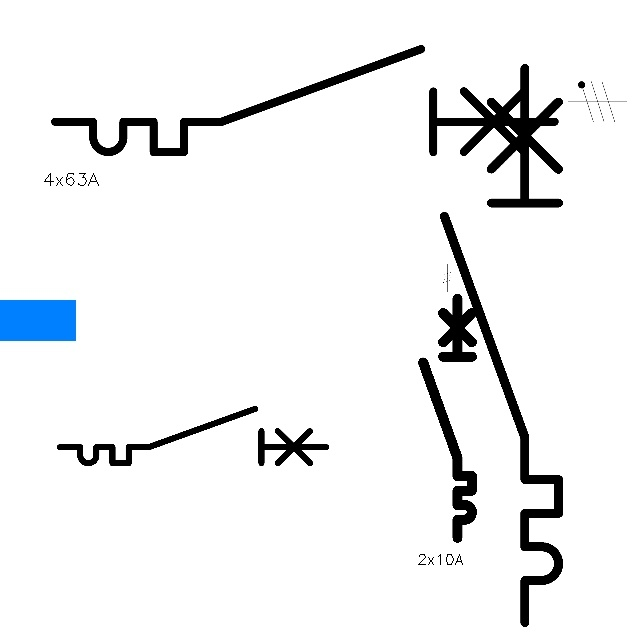interruptor_termomagnetico: (430, 54, 573, 637), (42, 36, 568, 165), (53, 402, 333, 470), (417, 292, 478, 544)
